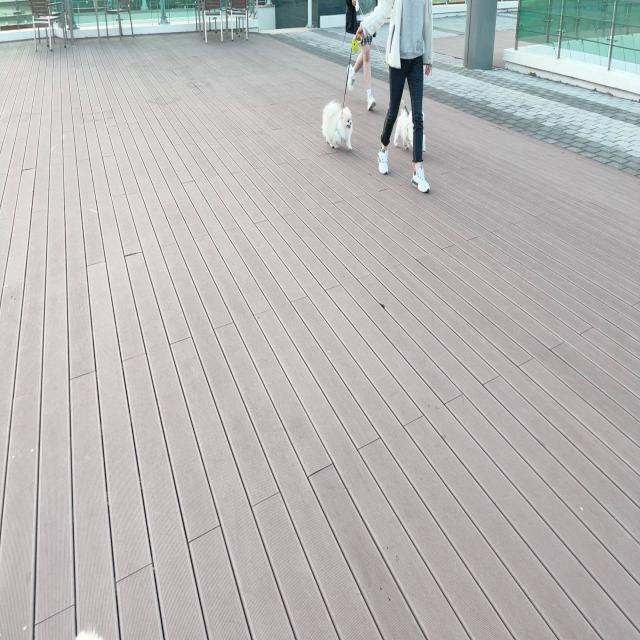Leashed_Dog: (352, 0, 427, 152), (321, 10, 398, 152)
